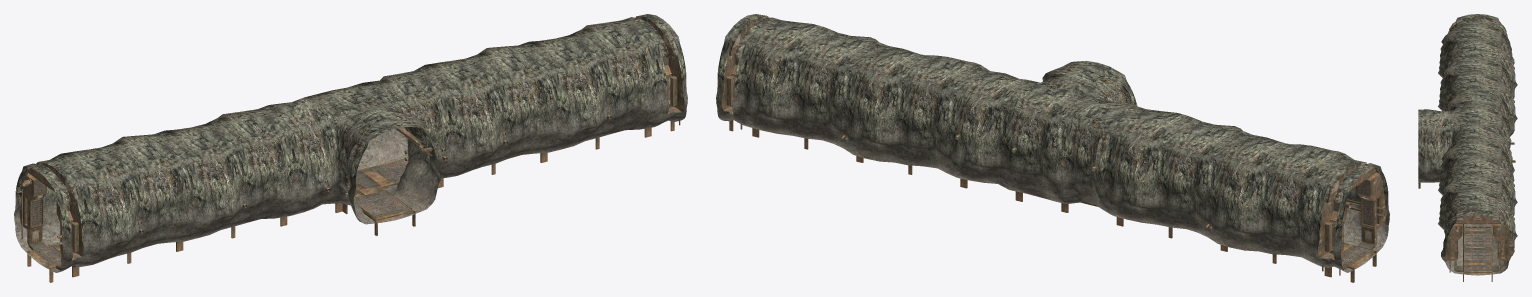
File: poi_all_bunker_mad_bio_s01_r29_intersection5_mesh_r29.fbx
The picture shows the model from 3 angles, left to right: view 1: azimuth 30°, elevation 25°; view 2: azimuth 150°, elevation 25°; view 3: azimuth 270°, elevation 25°; orthographic projection. The views are drawn at different scales.
Parts seen in each view (by area): view 1: mesh_node; view 2: mesh_node; view 3: mesh_node.
Boxes of the visible parts, x1=… form: mesh_node: x1=14, y1=14, x2=687, y2=282; mesh_node: x1=716, y1=14, x2=1389, y2=282; mesh_node: x1=1418, y1=14, x2=1517, y2=281.
Bounding box in the file's own units: 48 × 7.73 × 10.03.
